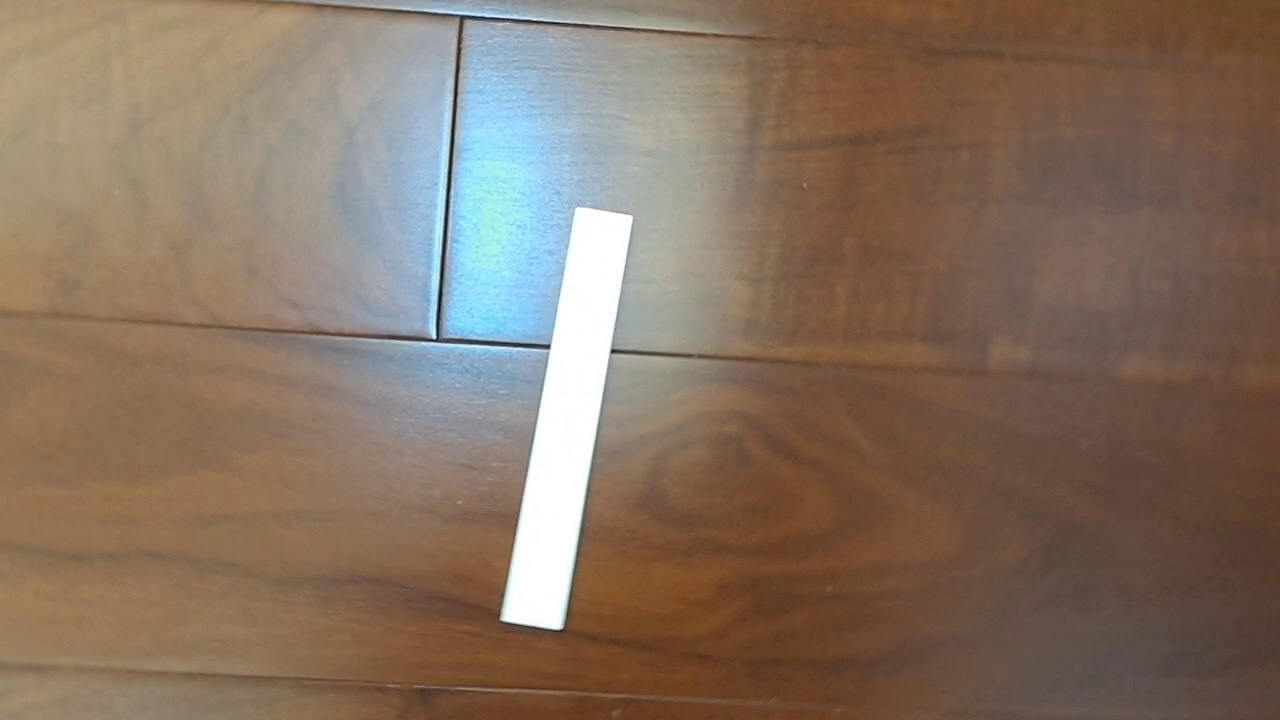ruler: (496, 205, 634, 633)
